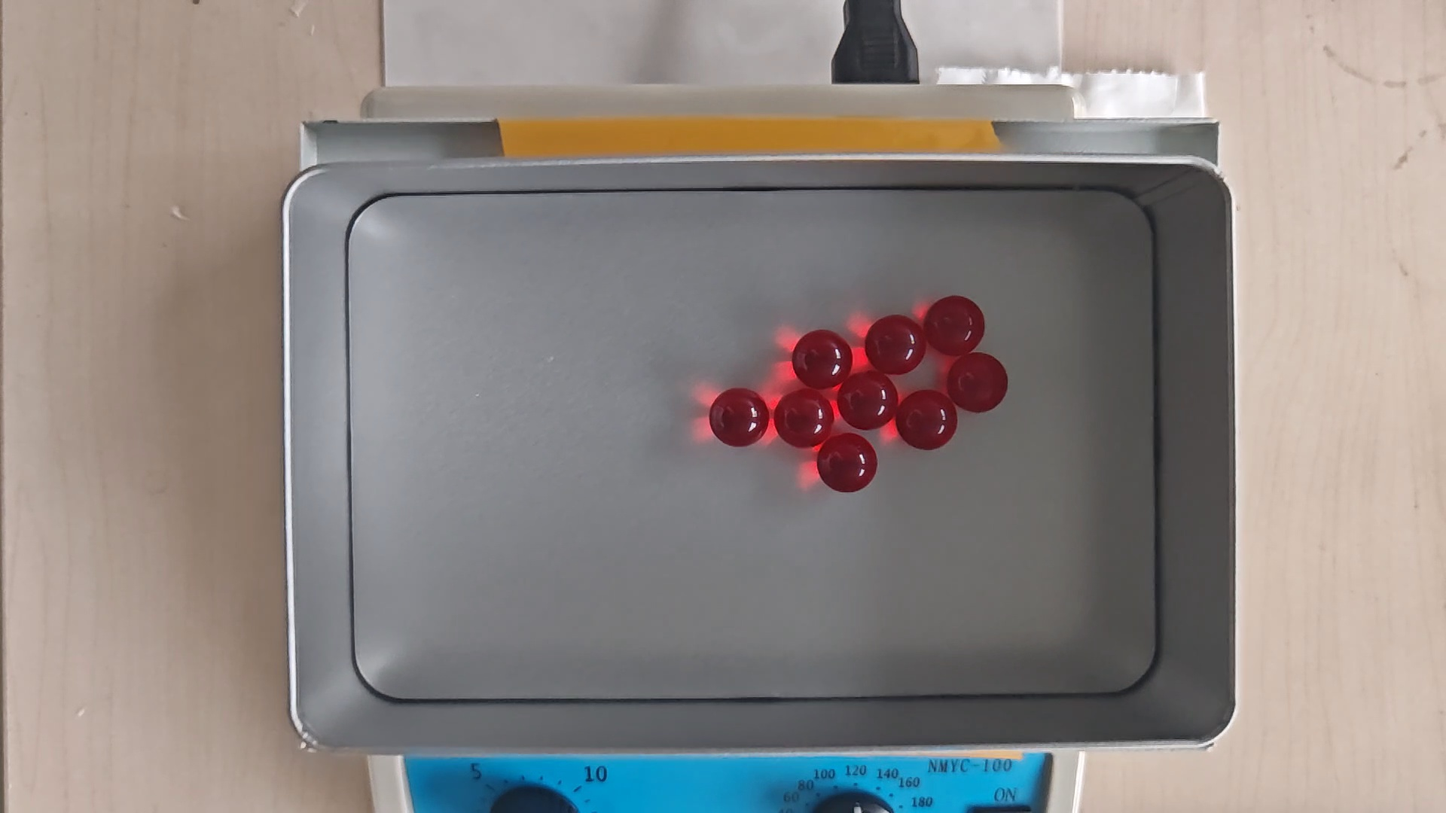ball: (709, 387, 770, 448), (866, 314, 926, 375), (818, 433, 878, 494), (925, 295, 985, 356), (898, 389, 957, 451), (949, 353, 1009, 413), (838, 371, 898, 431), (792, 329, 851, 389), (775, 389, 834, 448)
container: (349, 188, 1156, 699)
